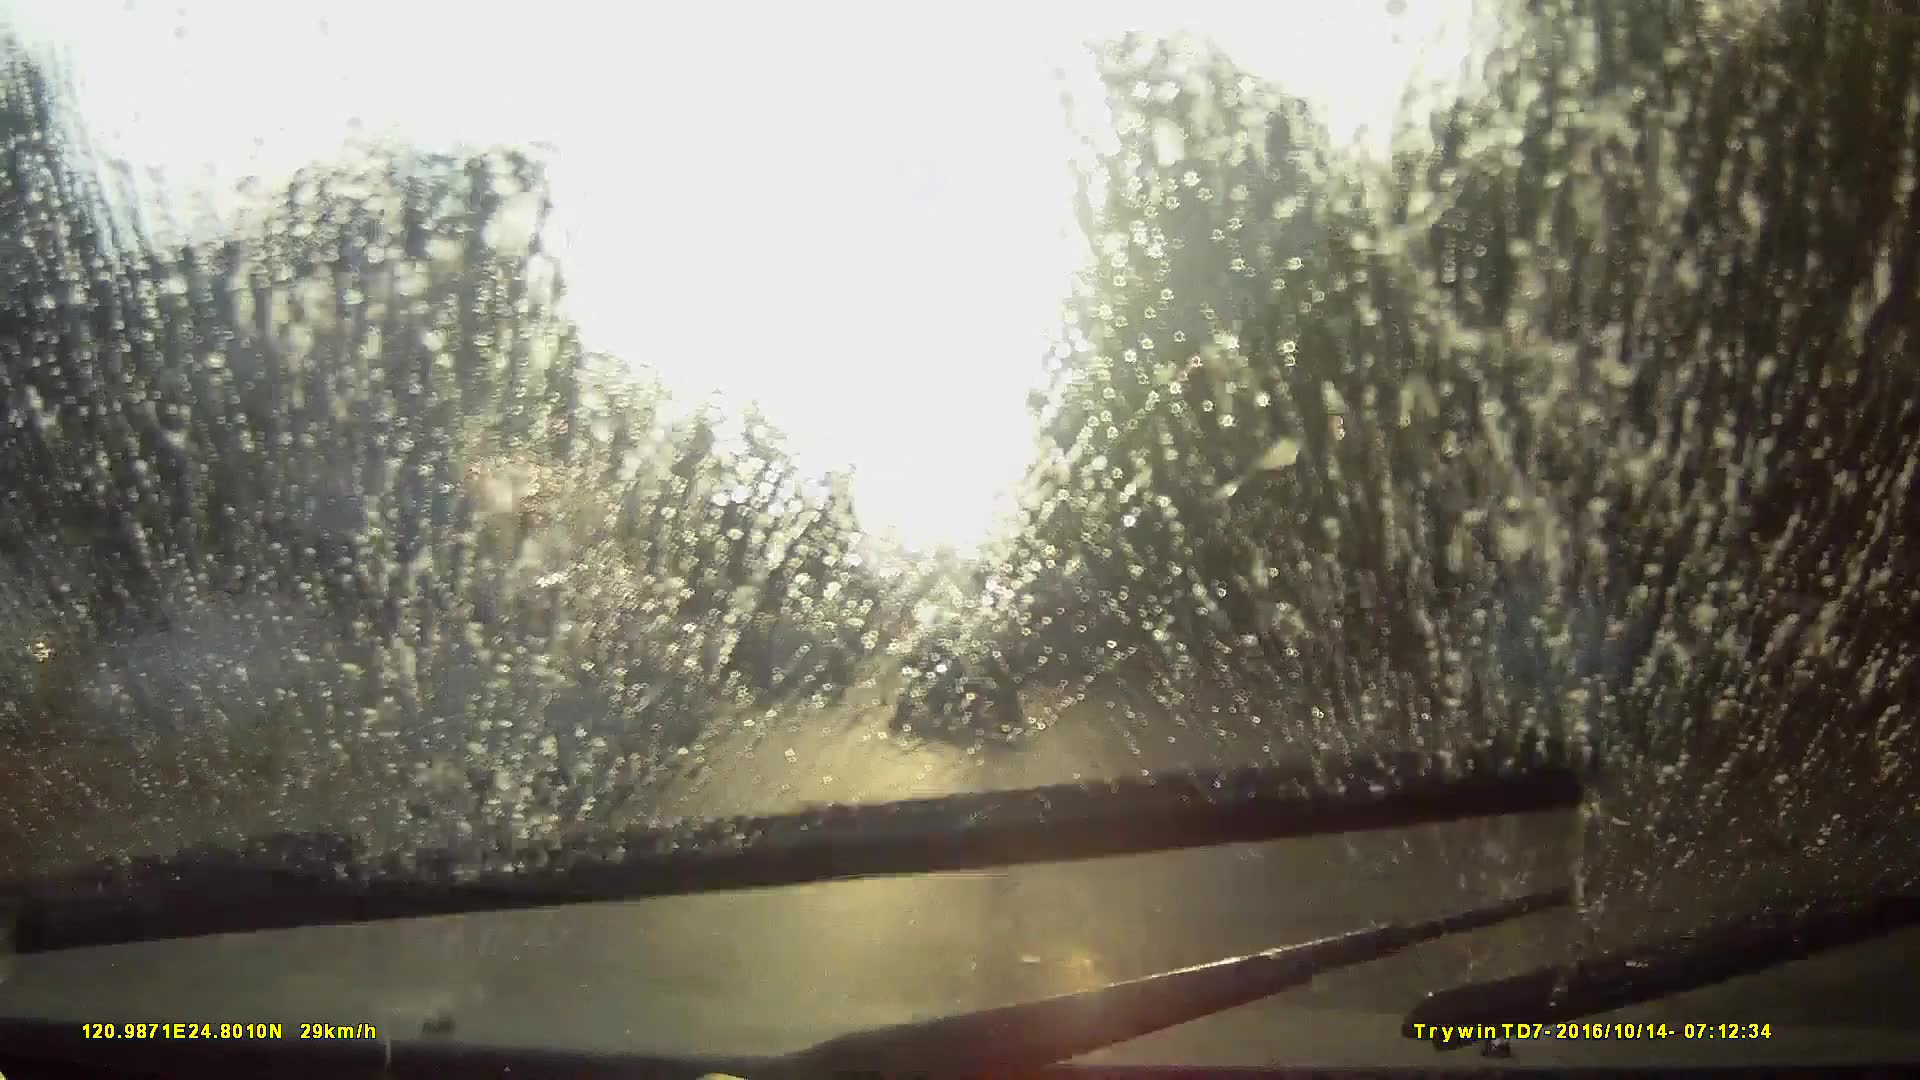vehicle: (251, 556, 684, 868), (216, 423, 651, 731), (401, 560, 707, 791), (889, 607, 1022, 738), (1004, 564, 1108, 690), (744, 622, 852, 709), (866, 638, 915, 687)
